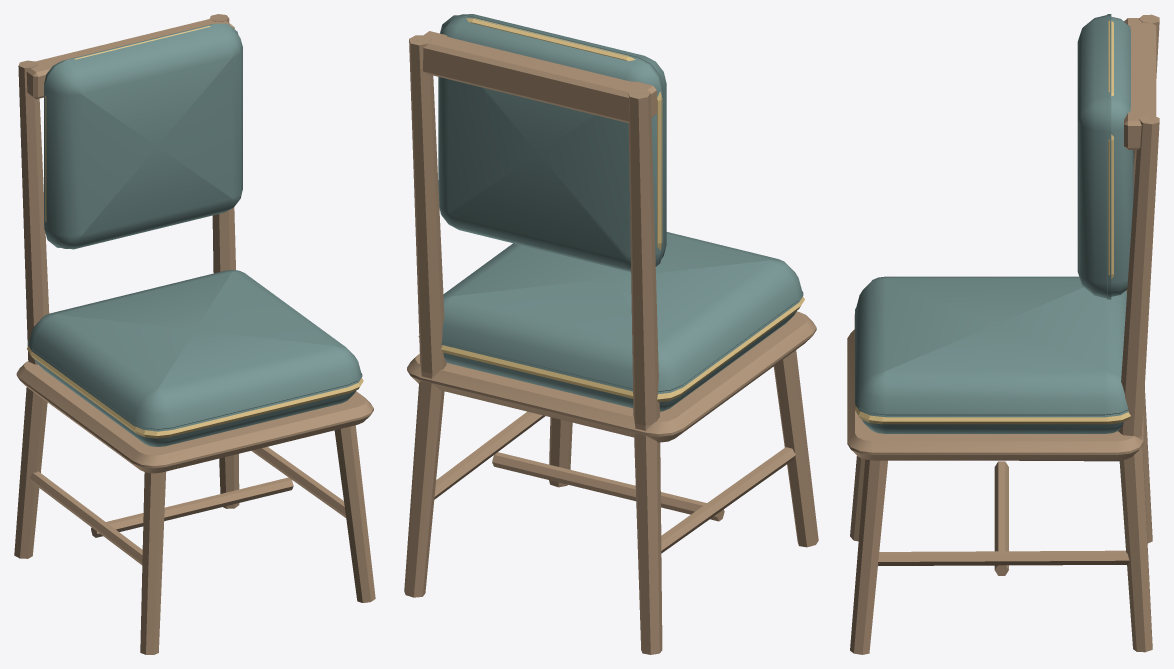
File: restChair.glb
3 renders of one model, left to right at view 1: azimuth 30°, elevation 25°; view 2: azimuth 150°, elevation 25°; view 3: azimuth 270°, elevation 25°, orthographic. The views are drawn at different scales.
Visible parts, largest first — view 1: dining-chair-upholstered; view 2: dining-chair-upholstered; view 3: dining-chair-upholstered.
Boxes of the visible parts, left/top/right/bottom form: dining-chair-upholstered: left=14, top=14, right=375, bottom=654; dining-chair-upholstered: left=404, top=14, right=818, bottom=654; dining-chair-upholstered: left=847, top=14, right=1159, bottom=654.
Bounding box in the file's own units: 0.46 × 0.9248 × 0.4854.
